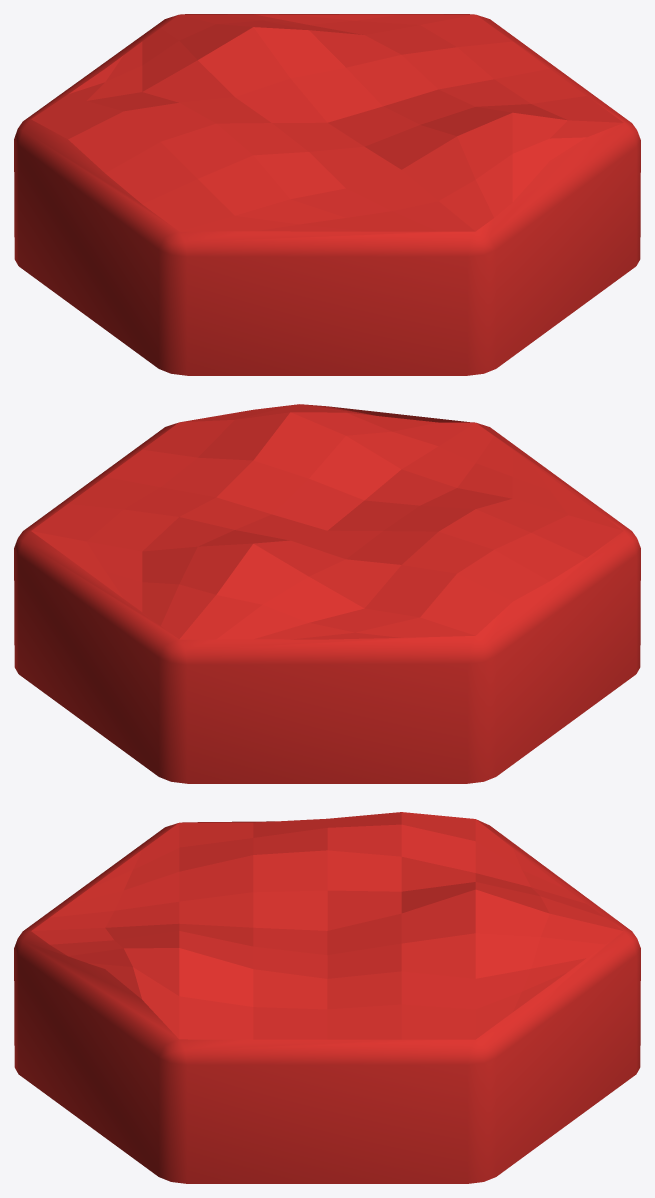
The model's file is FBX_Volcano_0.fbx.
3 renders of one model, top to bottom at view 1: azimuth 30°, elevation 25°; view 2: azimuth 150°, elevation 25°; view 3: azimuth 270°, elevation 25°, orthographic.
Visible parts, largest first — view 1: volcano_base_none; view 2: volcano_base_none; view 3: volcano_base_none.
Part boxes in pixels (box(x1,y1,x2,y2)): volcano_base_none: box(14, 14, 640, 375); volcano_base_none: box(14, 404, 640, 783); volcano_base_none: box(14, 812, 640, 1183).
Size of the model in its own units: 173 by 61.65 by 197.
